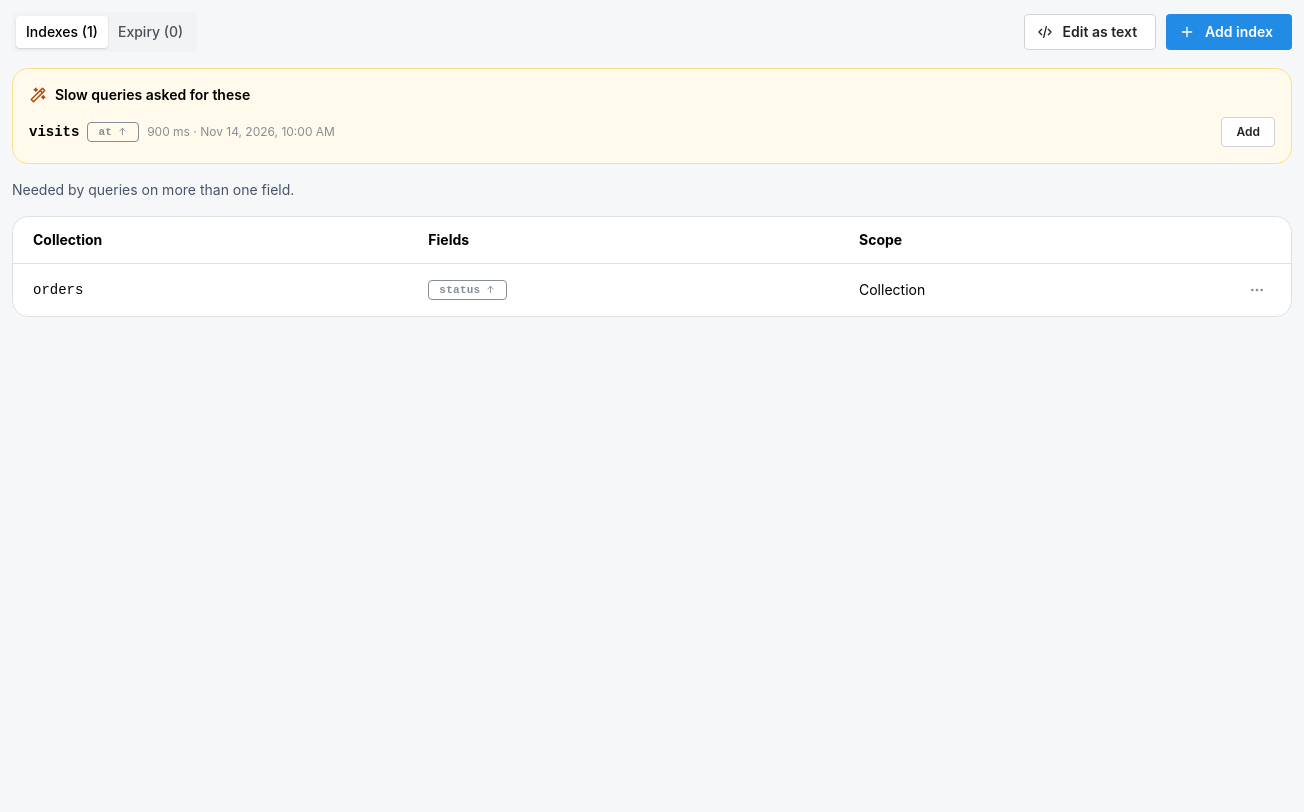
Test case: a mistake in the text is shown and stops formatting until it's fixed
What coordinates should you click on to do the following:
click the button "Edit as text"
I would click on:
 (1090, 32)
Its box is x1=1024 y1=14 x2=1156 y2=50.
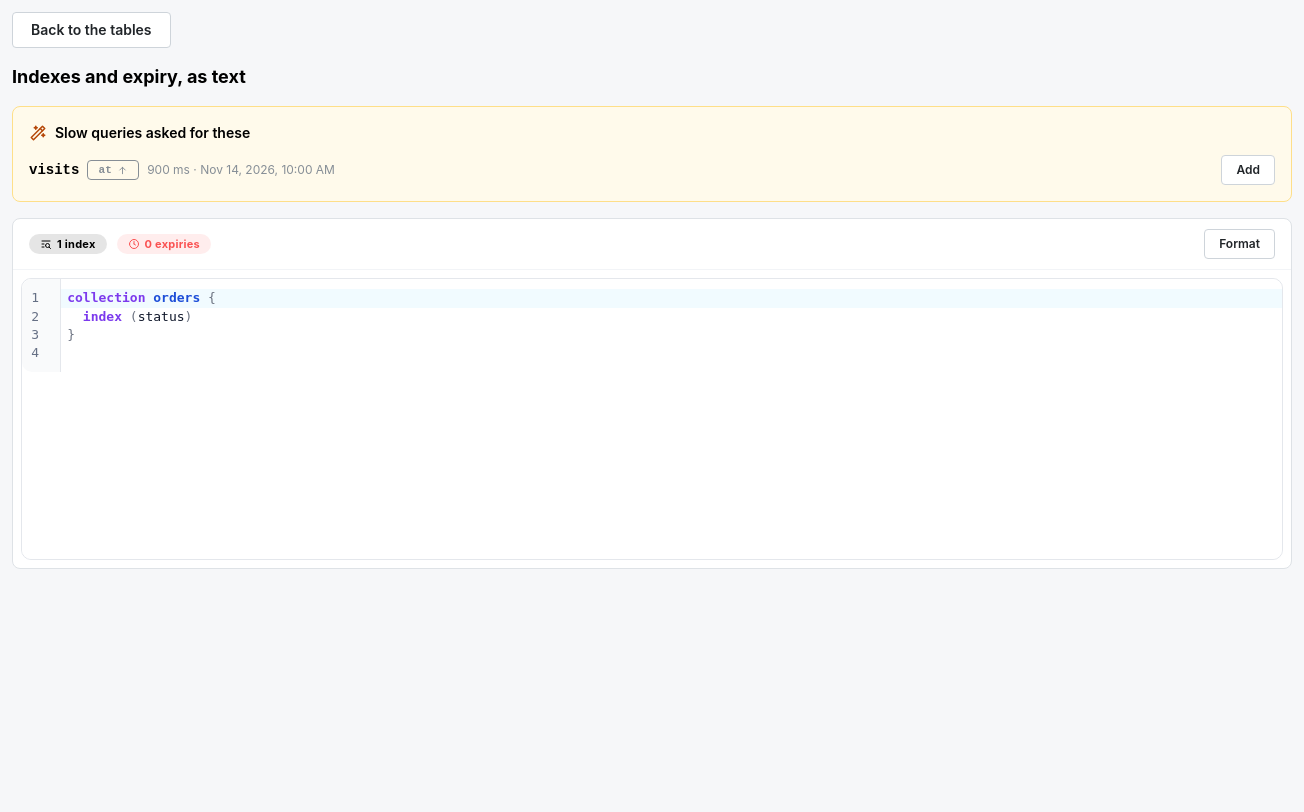
What coordinates should you click on to do the following:
click the button "Add"
I would click on:
 (1248, 170)
Its box is x1=1222 y1=155 x2=1275 y2=185.
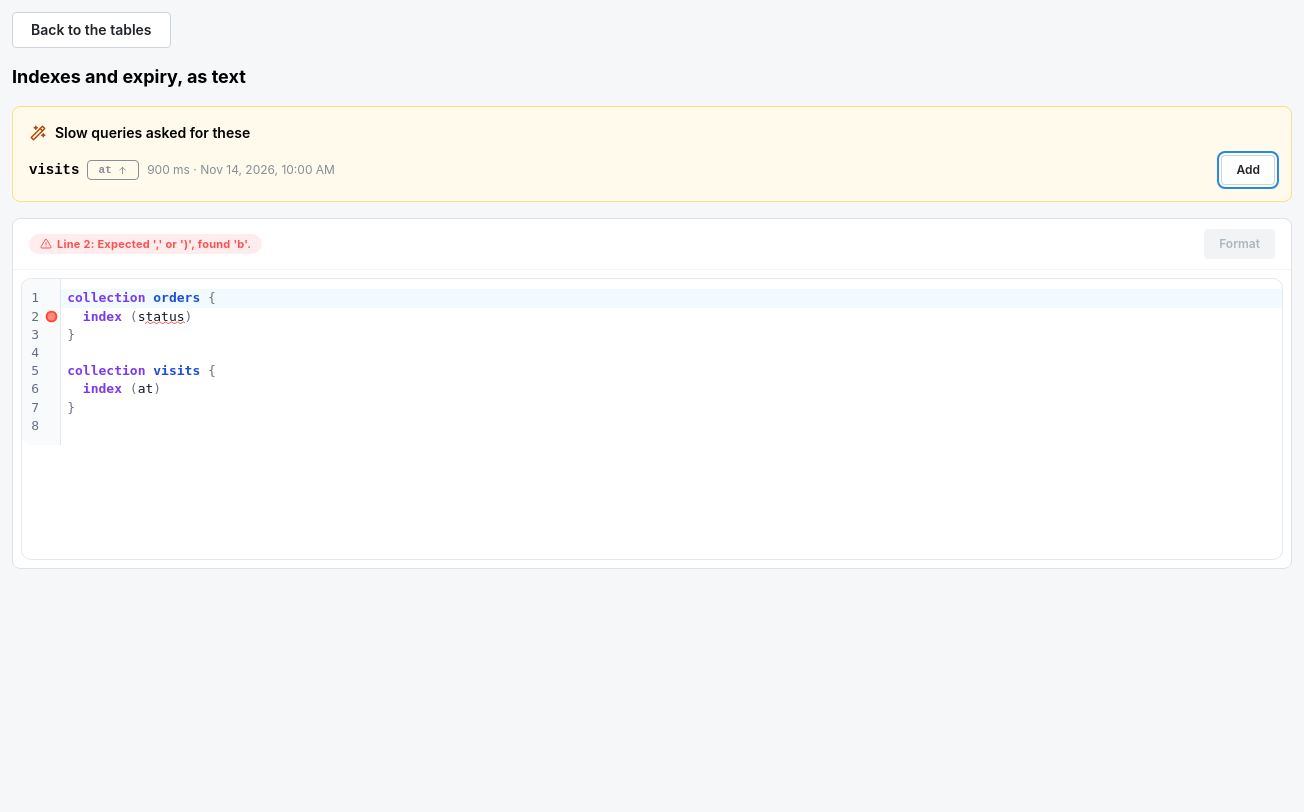
Expected: the text "Line 2: Expected ',' or ')', found 'b'." is shown, x1=57 y1=235 x2=251 y2=253
Expected: the button "Format" is disabled, x1=1204 y1=229 x2=1275 y2=259
